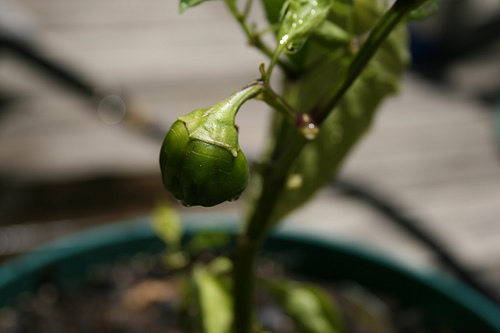capsicum: (157, 82, 266, 209)
